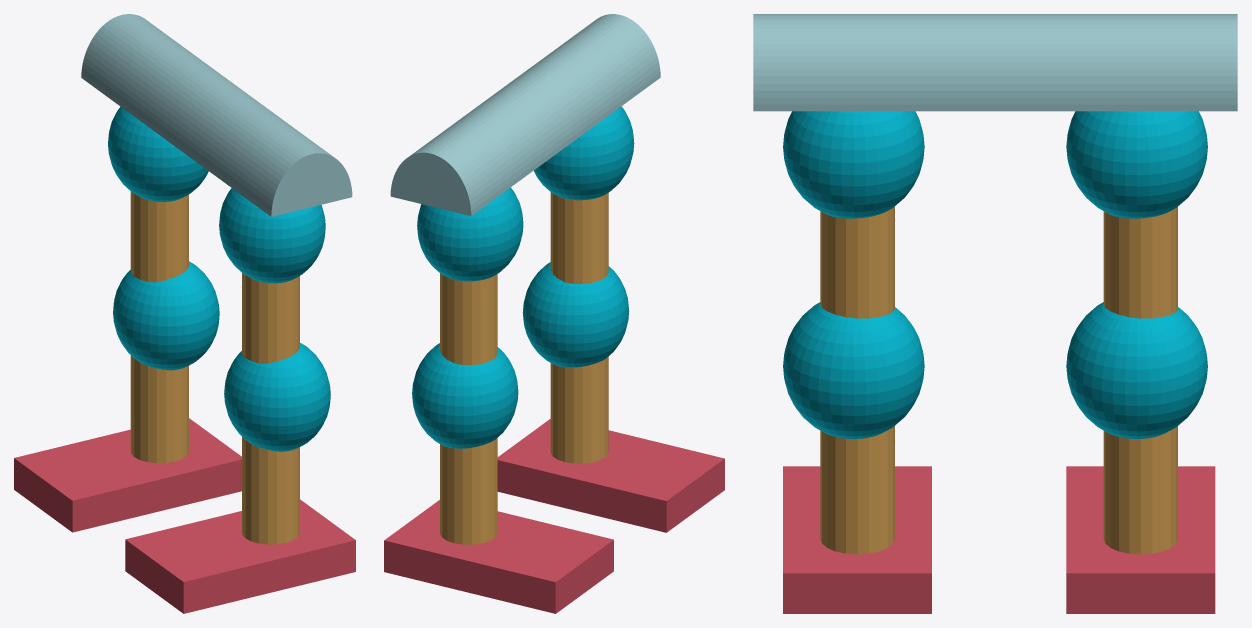
The model's file is Cool Elzing.glb.
3 views of the same model, side by side, from view 1: azimuth 30°, elevation 25°; view 2: azimuth 150°, elevation 25°; view 3: azimuth 270°, elevation 25° (orthographic). The views are drawn at different scales.
Visible parts, largest first — view 1: Mesh_Mesh_head_geo.001_lambert2SG.001; view 2: Mesh_Mesh_head_geo.001_lambert2SG.001; view 3: Mesh_Mesh_head_geo.001_lambert2SG.001.
Part boxes in pixels (x1=…): Mesh_Mesh_head_geo.001_lambert2SG.001: x1=14, y1=14, x2=355, y2=613; Mesh_Mesh_head_geo.001_lambert2SG.001: x1=384, y1=14, x2=724, y2=613; Mesh_Mesh_head_geo.001_lambert2SG.001: x1=753, y1=14, x2=1237, y2=613.
Size of the model in its own units: 34 by 83 by 65.
